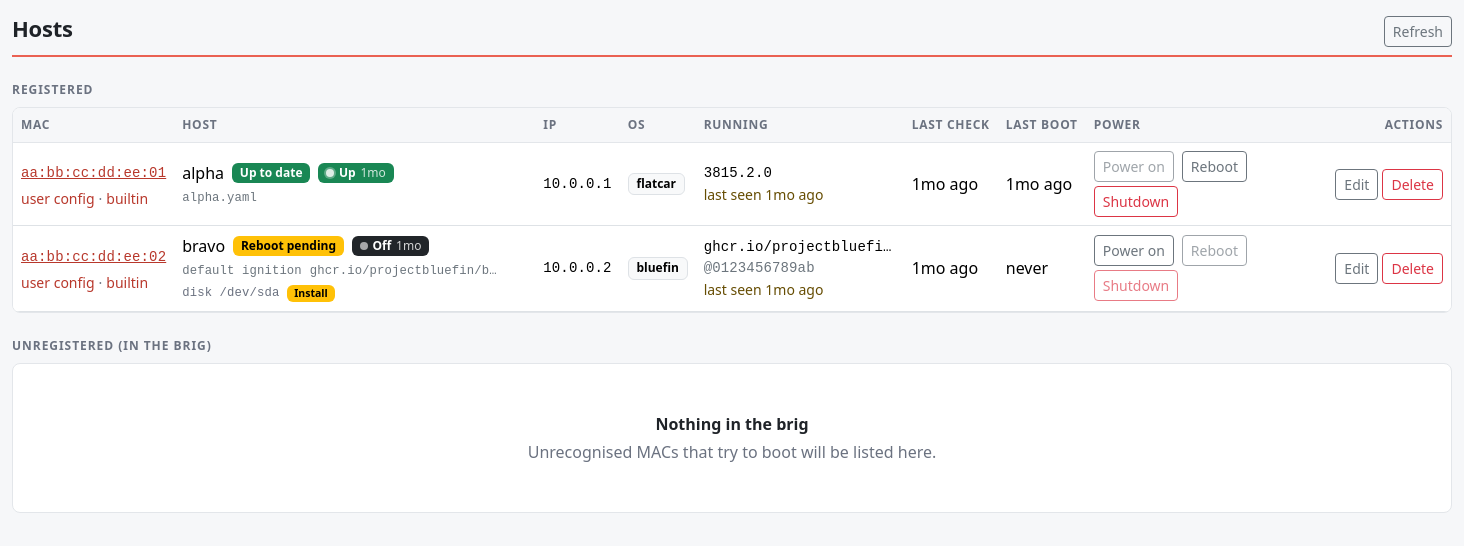
HostsView › shows the power badge, enables the power buttons from /power and updates the row on 202
Expected: the element with test id "host-power" shows "Up", [339,164,356,181]
Expected: the button "Reboot" in the row of "aa:bb:cc:dd:ee:01" is enabled, [1182,151,1247,182]
Click the button "Power on" in the row of "aa:bb:cc:dd:ee:02".
click(1134, 251)  # box [1094,235,1174,266]
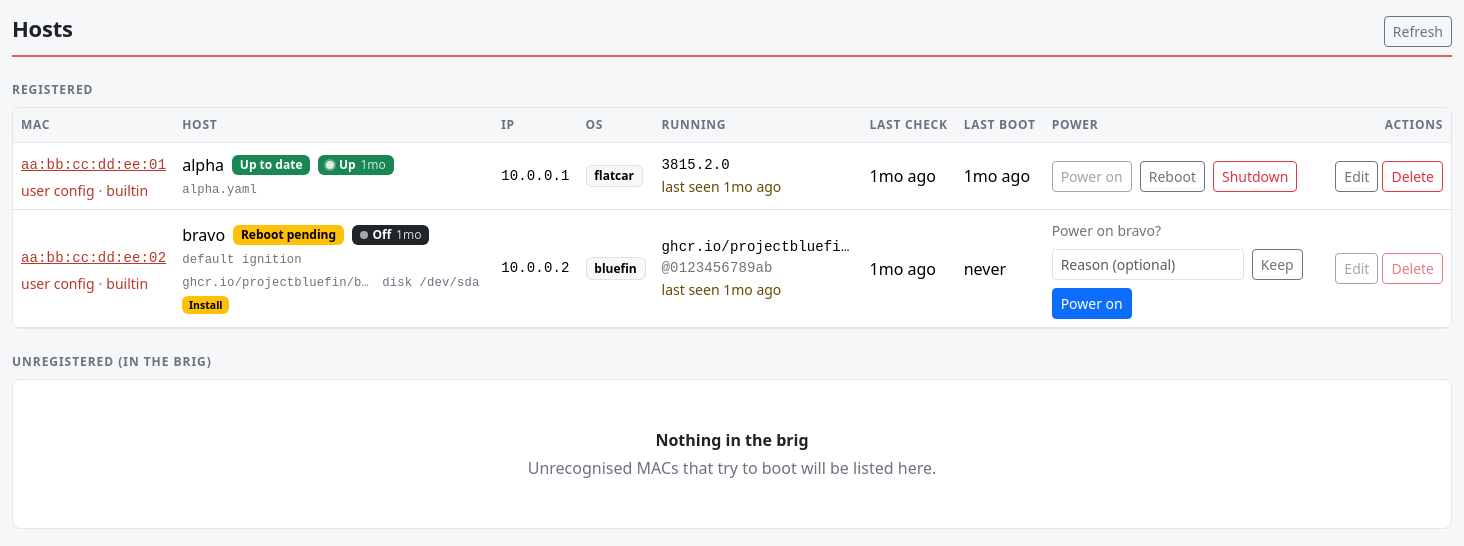
Now the element with test id "power-confirm" is shown, box [1052,220,1319,319]
Now the button "Edit" in the row of "aa:bb:cc:dd:ee:02" is disabled, box [1335,253,1378,284]
Click the button "Power on" below "Power on bravo?".
click(1092, 304)  # box [1052,288,1132,319]
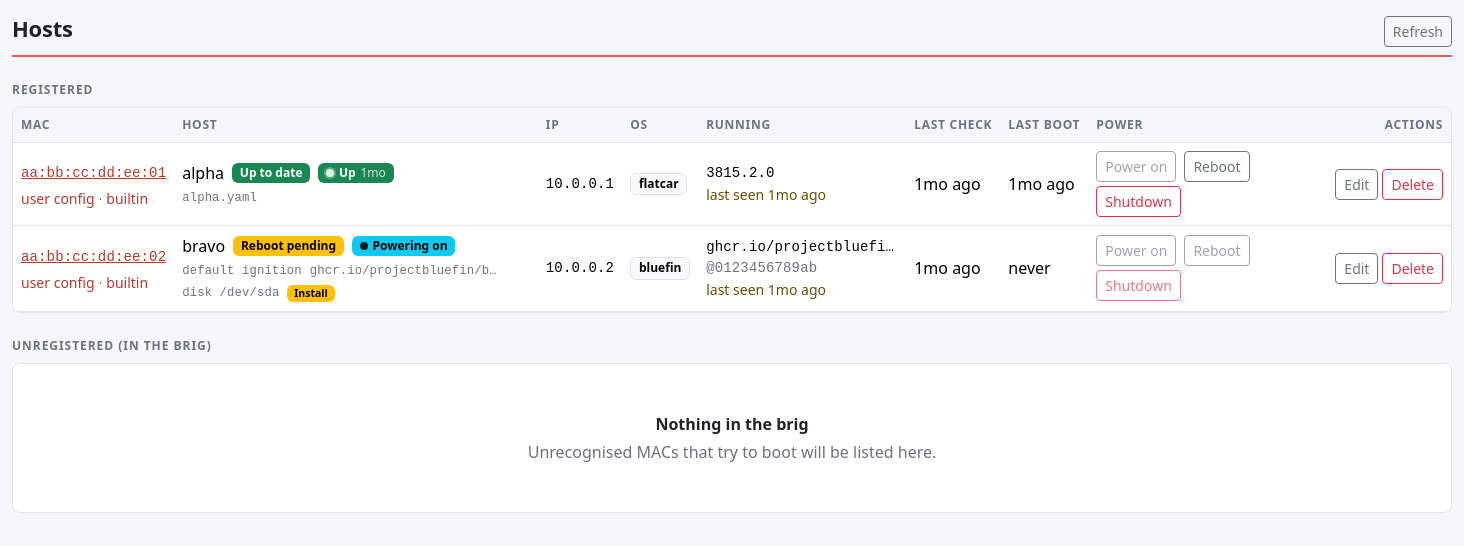
Now the button "Power on" in the row of "aa:bb:cc:dd:ee:02" is disabled, box [1096,235,1176,266]
